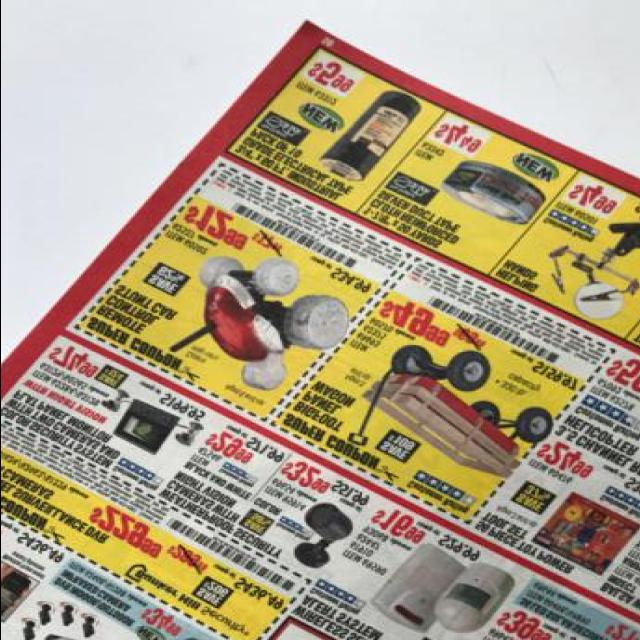kertas: (0, 15, 640, 640)
